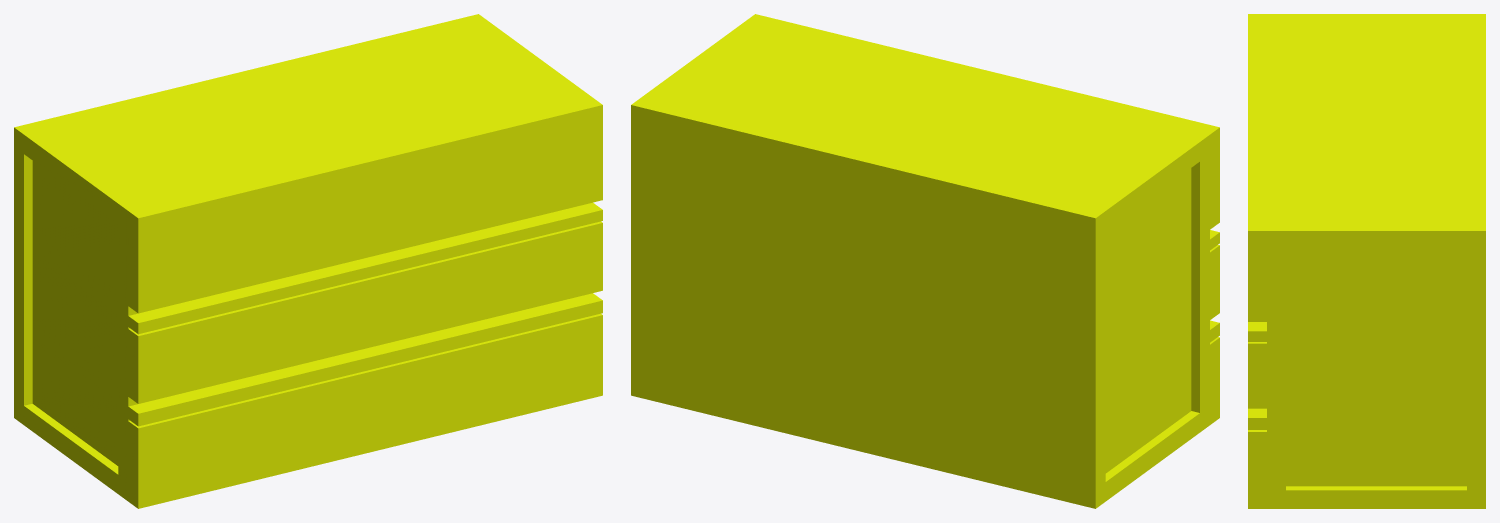
File: Drawer2.FBX
3 views of the same model, side by side, from view 1: azimuth 30°, elevation 25°; view 2: azimuth 150°, elevation 25°; view 3: azimuth 270°, elevation 25° (orthographic). The views are drawn at different scales.
Visible parts, largest first — view 1: Box005; view 2: Box005; view 3: Box005.
Part boxes in pixels (bbox=[...]): Box005: bbox=[14, 14, 602, 508]; Box005: bbox=[631, 14, 1219, 508]; Box005: bbox=[1248, 14, 1485, 508].
Bounding box in the file's own units: 1.91 × 1.14 × 0.8869.
